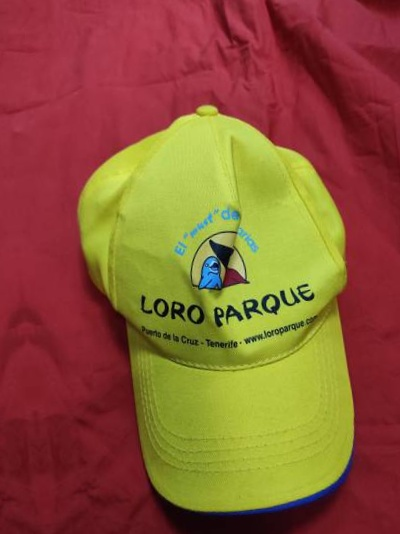Hat: (60, 60, 400, 534)
